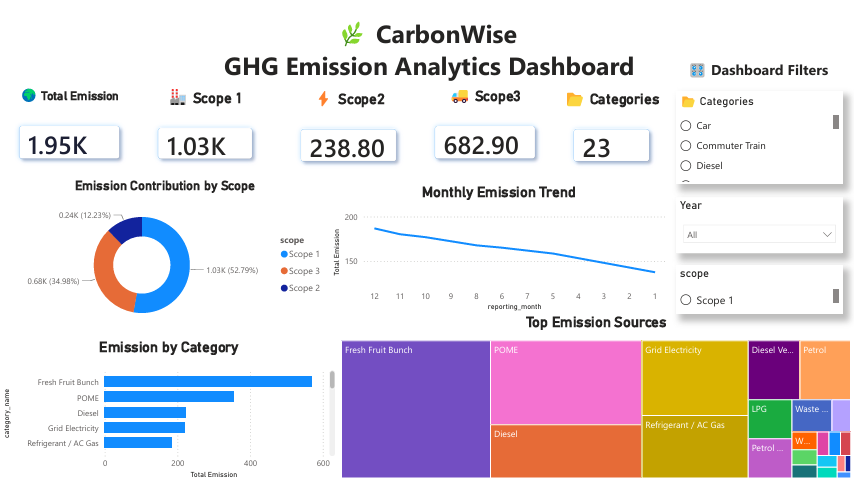

What the dashboard file says about the page in this screenshot:
{"tool":"powerbi","page":{"name":"Page 1","canvas":[1280,720],"ordinal":0},"visuals":[{"type":"cardVisual","title":"🌍 Total Emission","fields":{"Data":["Fact_GHG.Total Emission"]},"box":[0,125.5,208,138.2],"z":0},{"type":"cardVisual","title":"🏭 Scope 1","fields":{"Data":["Fact_GHG.Scope 1"]},"box":[208,125.5,198.5,138.2],"z":1000},{"type":"cardVisual","title":"⚡ Scope2","fields":{"Data":["Fact_GHG.Scope 2"]},"box":[422.4,127,200.1,141.3],"z":2000},{"type":"cardVisual","title":"🚚 Scope3","fields":{"Data":["Fact_GHG.Scope 3"]},"box":[622.5,122.3,208,141.3],"z":3000},{"type":"donutChart","title":"Emission Contribution by Scope","fields":{"Category":["Fact_GHG.scope"],"Y":["Fact_GHG.Total Emission"]},"box":[0,263.6,493.9,228.7],"z":4000},{"type":"lineChart","title":"Monthly Emission Trend","fields":{"Category":["Fact_GHG.reporting_month"],"Y":["Fact_GHG.Total Emission"]},"box":[493.9,273.2,508.2,195.3],"z":5000},{"type":"barChart","title":"Emission by Category","fields":{"Category":["Fact_GHG.category_name"],"Y":["Fact_GHG.Total Emission"]},"box":[0,505,506.6,214.4],"z":6000},{"type":"treemap","title":"Top Emission Sources","fields":{"Group":["Fact_GHG.category_name"],"Values":["Fact_GHG.Total Emission"]},"box":[506.6,468.5,773.4,250.9],"z":7000},{"type":"slicer","title":"Year","fields":{"Values":["Fact_GHG.reporting_year"]},"box":[1013.8,293.8,249.3,84.2],"z":8000},{"type":"listSlicer","fields":{"Values":["Fact_GHG.scope"]},"box":[1013.8,396,249.3,73.1],"z":9000},{"type":"listSlicer","title":"📂 Categories","fields":{"Values":["Fact_GHG.category_name"]},"box":[1013.8,135.4,249.3,138.2],"z":10000},{"type":"textbox","box":[23.8,15.9,1238.7,109.6],"z":11000},{"type":"cardVisual","title":"📂 Categories","fields":{"Data":["Fact_GHG.Total Categories"]},"box":[830.6,127,171.2,140.5],"z":12000},{"type":"textbox","box":[1002.2,82.1,267.8,43.9],"z":13000}]}

Visuals, with their boxes in screenshot pixels (x1, y1, x2, y2), scaled from the page's 1280x720 canvas onto the 862x486 screenshot:
"🌍 Total Emission" cardVisual: [left=0, top=85, right=140, bottom=178]
"🏭 Scope 1" cardVisual: [left=140, top=85, right=274, bottom=178]
"⚡ Scope2" cardVisual: [left=284, top=86, right=419, bottom=181]
"🚚 Scope3" cardVisual: [left=419, top=83, right=559, bottom=178]
"Emission Contribution by Scope" donutChart: [left=0, top=178, right=333, bottom=332]
"Monthly Emission Trend" lineChart: [left=333, top=184, right=675, bottom=316]
"Emission by Category" barChart: [left=0, top=341, right=341, bottom=485]
"Top Emission Sources" treemap: [left=341, top=316, right=861, bottom=485]
"Year" slicer: [left=683, top=198, right=851, bottom=255]
listSlicer - Fact_GHG.scope: [left=683, top=267, right=851, bottom=317]
"📂 Categories" listSlicer: [left=683, top=91, right=851, bottom=185]
textbox: [left=16, top=11, right=850, bottom=85]
"📂 Categories" cardVisual: [left=559, top=86, right=675, bottom=181]
textbox: [left=675, top=55, right=855, bottom=85]
